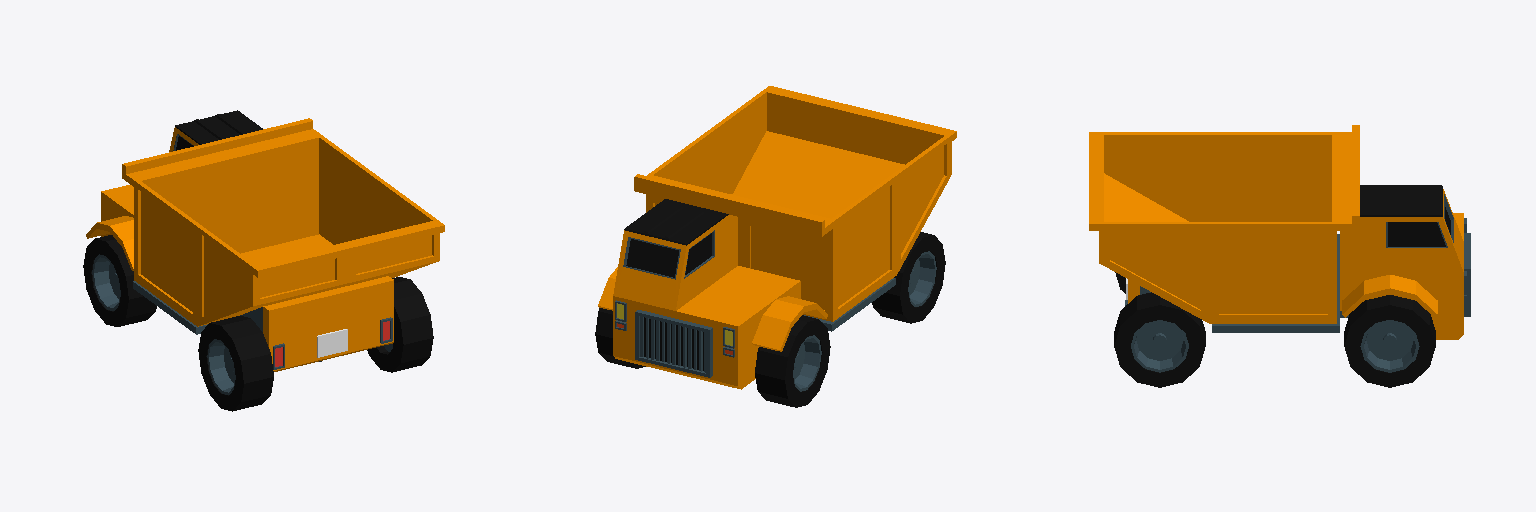
The model's file is Dump_Truck_01.obj.
3 renders of one model, left to right at view 1: azimuth 30°, elevation 25°; view 2: azimuth 150°, elevation 25°; view 3: azimuth 270°, elevation 25°, orthographic.
Visible parts, largest first — view 1: Dumptruck_01_Cube; view 2: Dumptruck_01_Cube; view 3: Dumptruck_01_Cube.
Boxes of the visible parts, box(x1,y1,x2,y2) form: Dumptruck_01_Cube: box(83, 110, 444, 411); Dumptruck_01_Cube: box(595, 86, 956, 407); Dumptruck_01_Cube: box(1089, 125, 1470, 387).
Bounding box in the file's own units: 6.02 × 5.2 × 10.48.